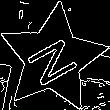N_NE: (21, 29, 85, 88)
